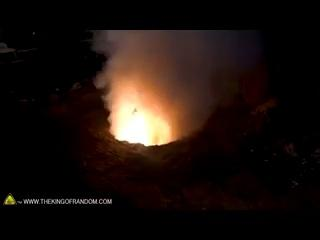Fire: (105, 88, 176, 146)
